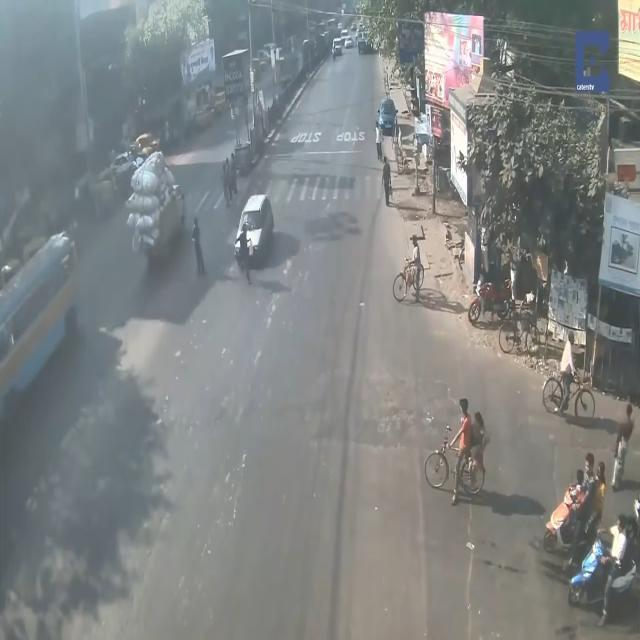accident: (217, 180, 287, 287)
